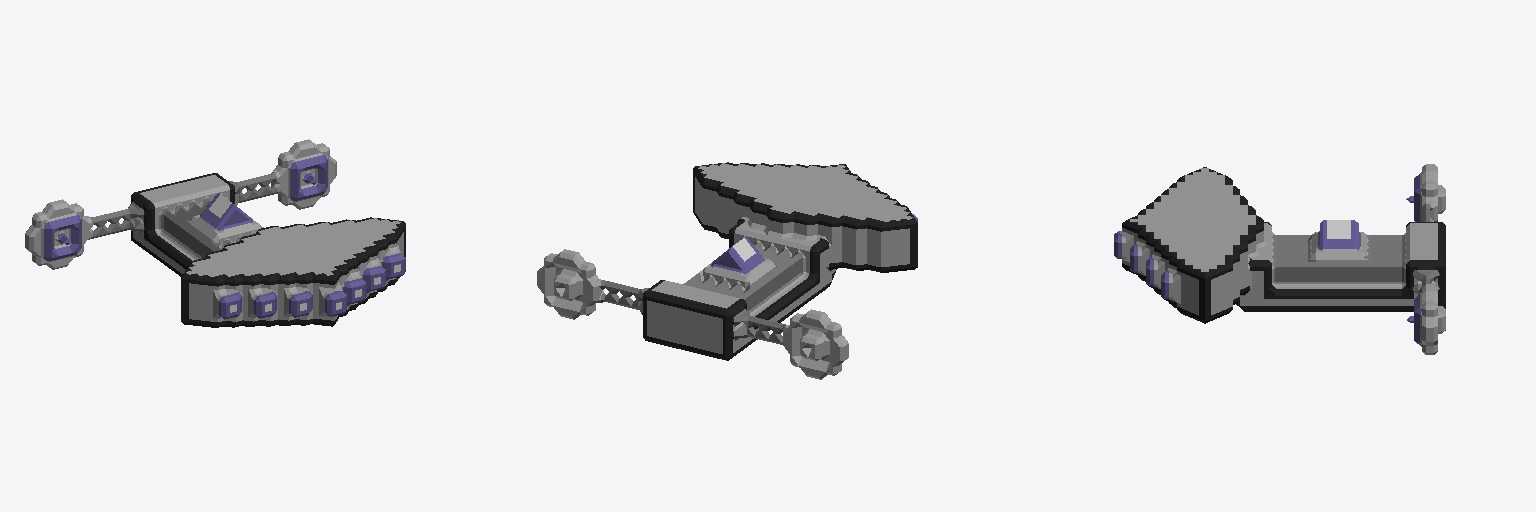
The picture shows the model from 3 angles: view 1: azimuth 30°, elevation 25°; view 2: azimuth 150°, elevation 25°; view 3: azimuth 270°, elevation 25°; orthographic projection.
Bounding box in the file's own units: 45 × 10 × 42.
1 materials, 1 textured.